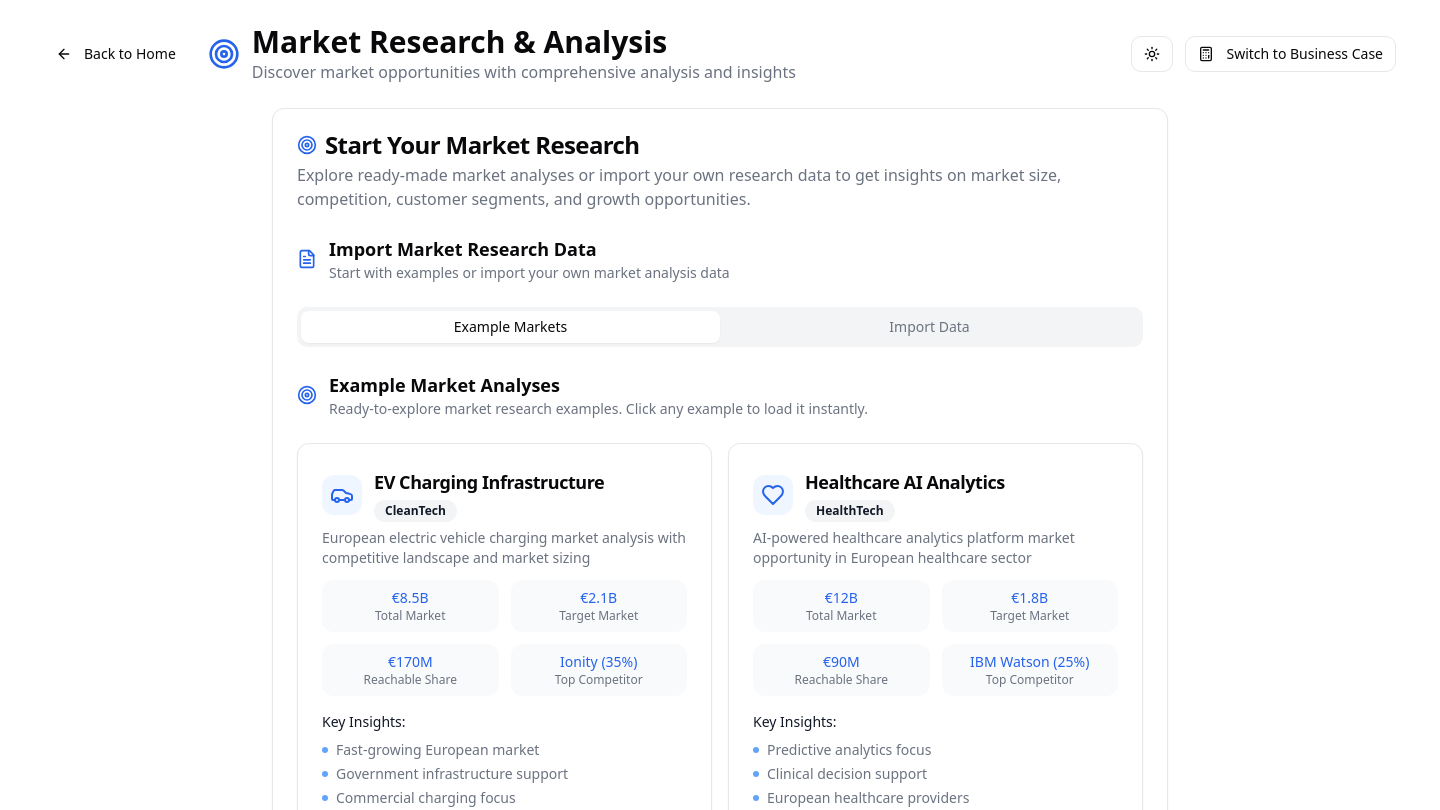
Test: MarketAnalysisSuite Component › allows switching between import tabs
The width and height of the screenshot is (1440, 810).
Expected: the heading "Example Market Analyses" is shown, [329,373,560,397]
# Switch to Import tab
Click the tab "Import Data" at point(930, 327), box [720,311,1139,343]
(page scrolled)
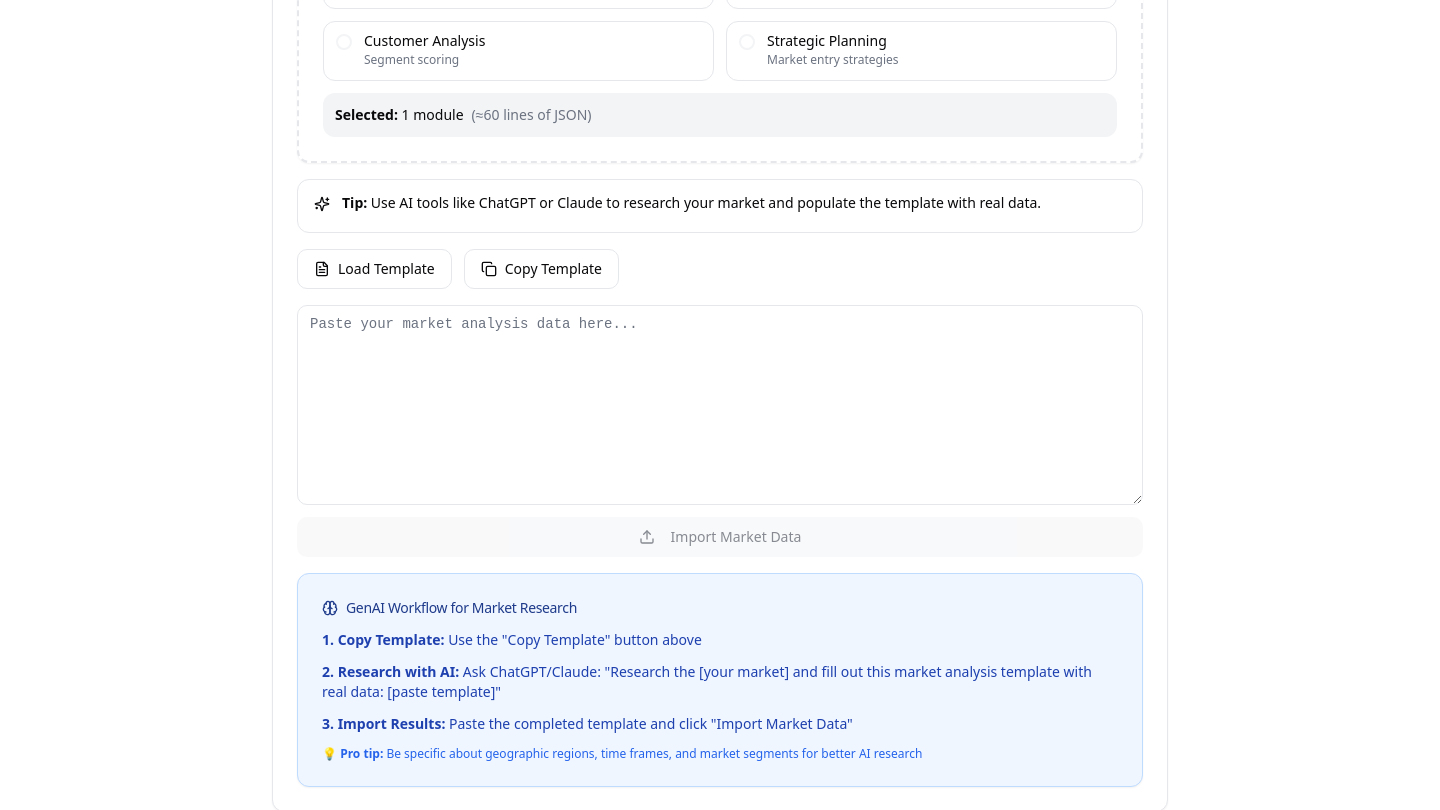
Result: the text box with placeholder "Paste your market analysis data here..." is shown at [297,305,1143,505]
